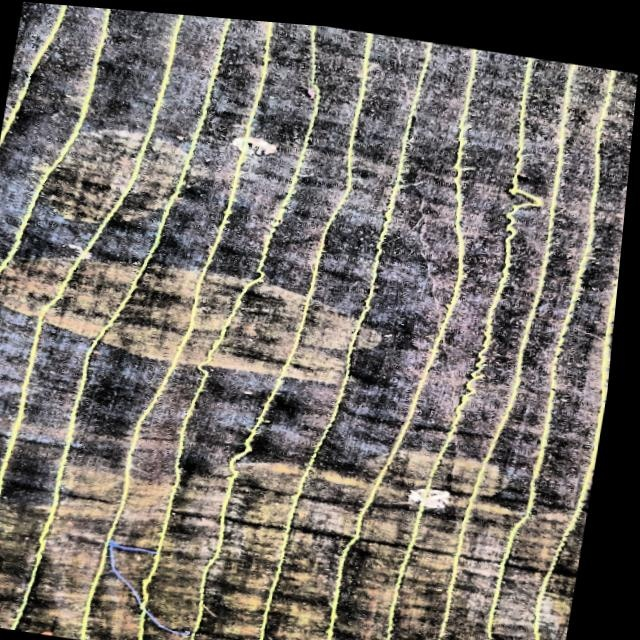Stitch: (76, 504, 246, 640), (483, 169, 563, 261)
